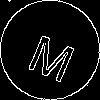M: (25, 25, 82, 84)
